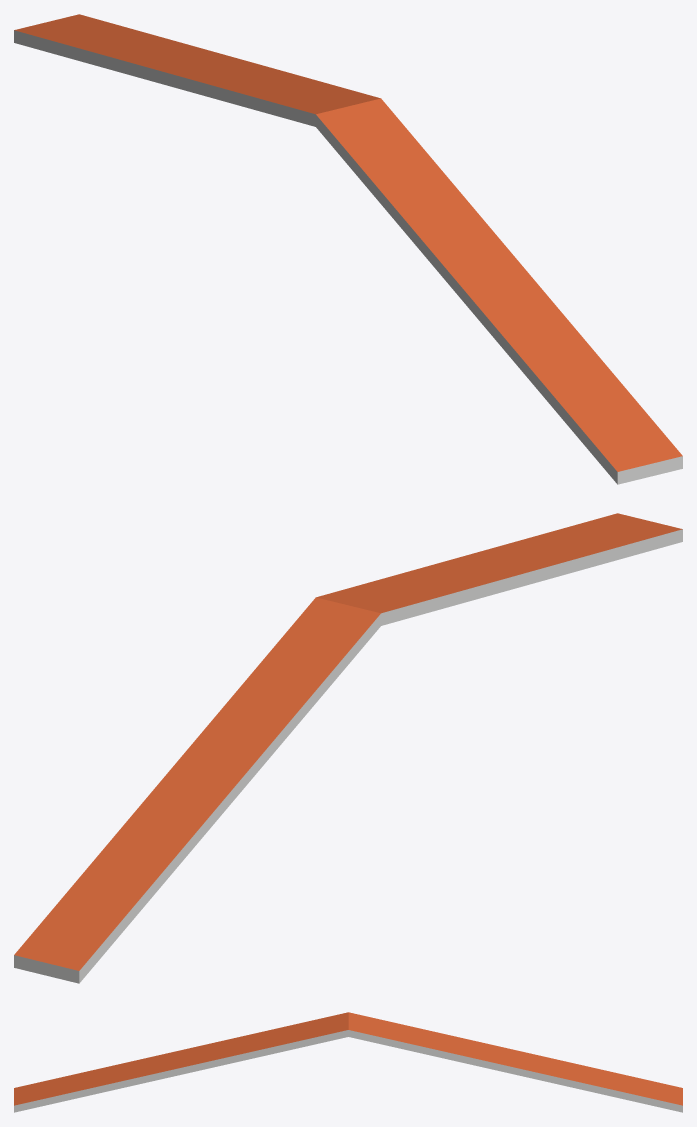
Rendered from telhado_duas_aguas_v8_i25_0_5m.glb.
3 renders of one model, top to bottom at view 1: azimuth 30°, elevation 25°; view 2: azimuth 150°, elevation 25°; view 3: azimuth 270°, elevation 25°, orthographic. The views are drawn at different scales.
Visible parts, largest first — view 1: telhado_duas_aguas_v8_i25_0_5m; view 2: telhado_duas_aguas_v8_i25_0_5m; view 3: telhado_duas_aguas_v8_i25_0_5m.
Boxes of the visible parts, x1,y1,x2,y2 form: telhado_duas_aguas_v8_i25_0_5m: [14, 14, 682, 484]; telhado_duas_aguas_v8_i25_0_5m: [14, 513, 682, 983]; telhado_duas_aguas_v8_i25_0_5m: [14, 1012, 682, 1112].
Bounding box in the file's own units: 0.5 × 1.09 × 8.
